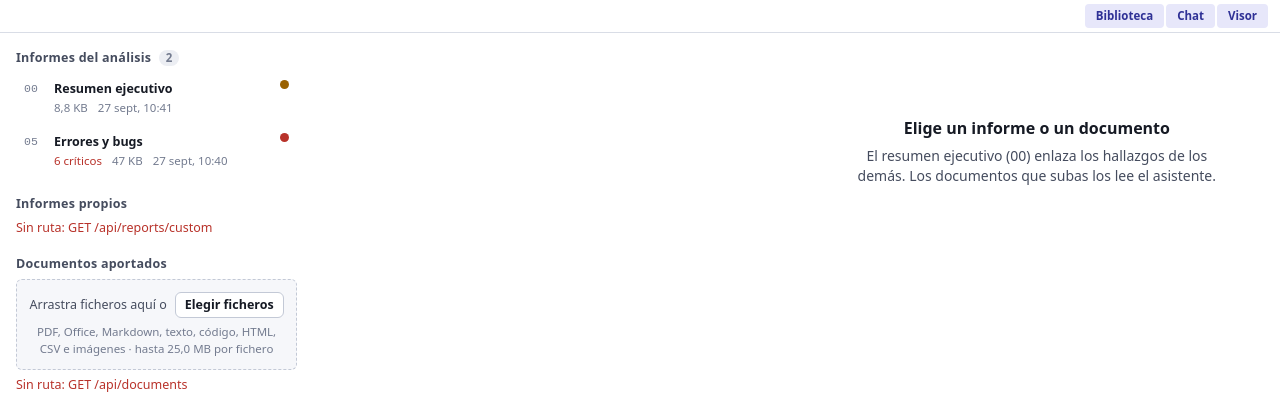
Test: AssistantTab › un informe que no existe (404) se explica
The width and height of the screenshot is (1280, 409).
Click the button "00 Resumen ejecutivo 8,8 KB 27 sept, 10:41".
click(157, 98)  # box [16,73,297,124]
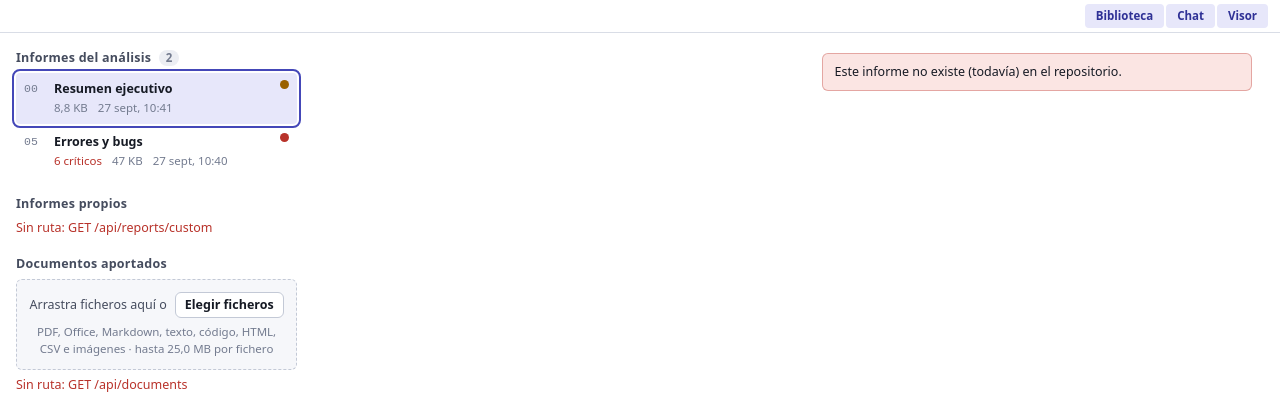
expect the text "Este informe no existe (todavía) en el repositorio." is shown: met, box [835,63,1122,80]
